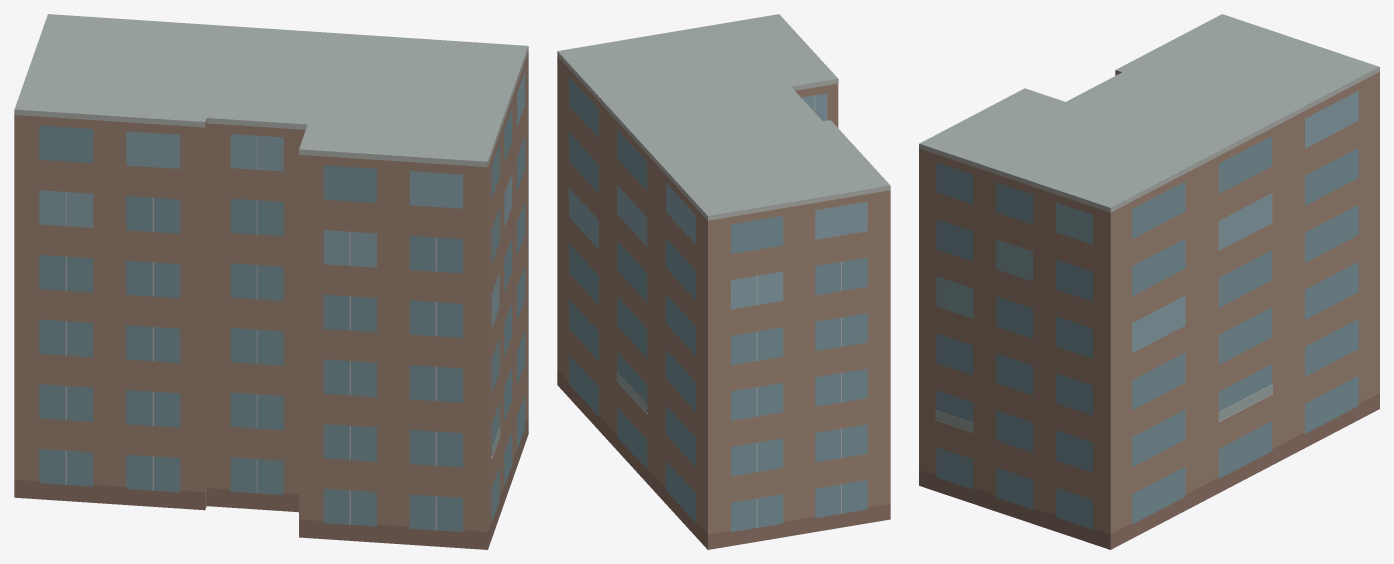
The model's file is survey-upis-32656872.glb.
3 renders of one model, left to right at view 1: azimuth 30°, elevation 25°; view 2: azimuth 150°, elevation 25°; view 3: azimuth 270°, elevation 25°, orthographic. The views are drawn at different scales.
Parts seen in each view (by area): view 1: survey-upis-32656872.tmp; view 2: survey-upis-32656872.tmp; view 3: survey-upis-32656872.tmp.
Part boxes in pixels (box(x1,y1,x2,y2)): survey-upis-32656872.tmp: box(14, 14, 528, 549); survey-upis-32656872.tmp: box(557, 14, 890, 549); survey-upis-32656872.tmp: box(919, 14, 1379, 549).
Bounding box in the file's own units: 21.16 × 17.4 × 21.25.
